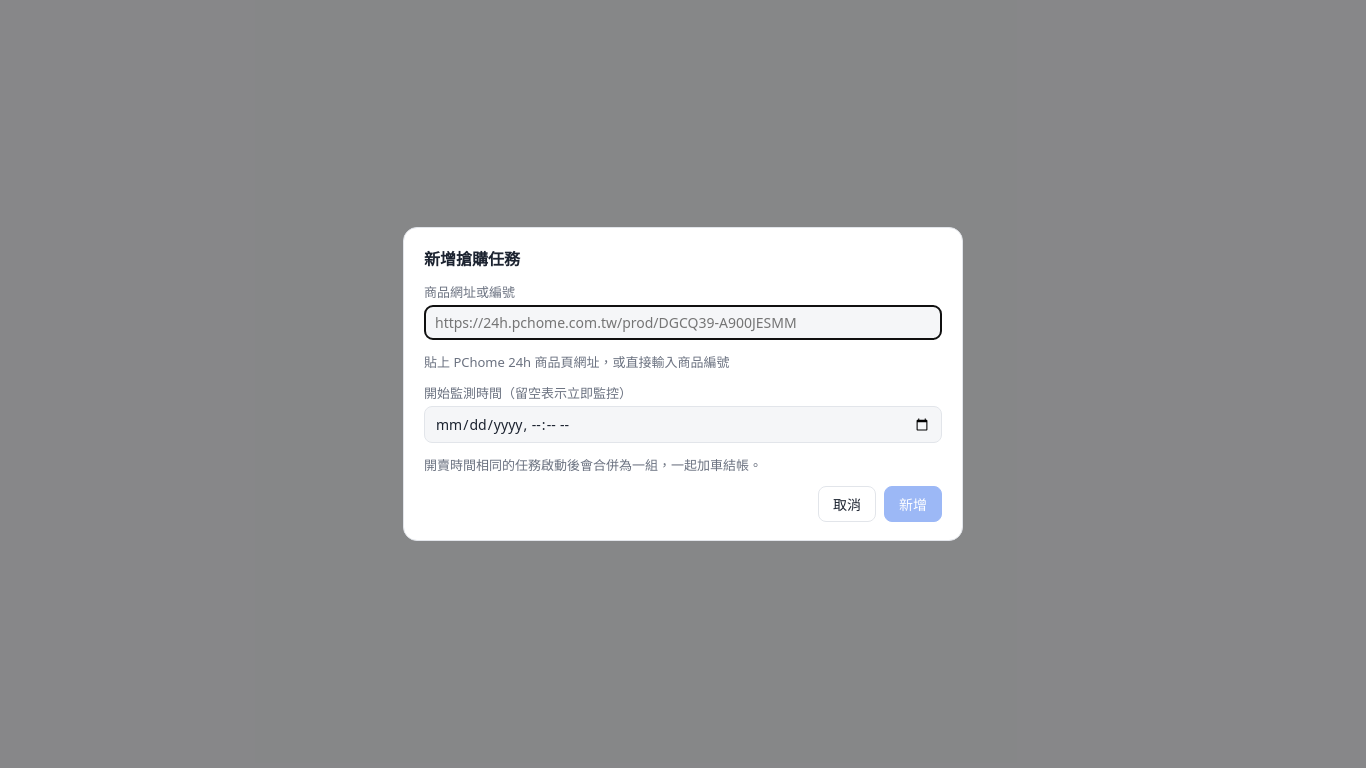
Scenario: AddProductDialog › previews the parsed product id from a bare id
Type "dgcq39-a900jesmm" into the field labelled "商品網址或編號".
click(683, 322); type("dgcq39-a900jesmm")  # box [424, 305, 942, 340]
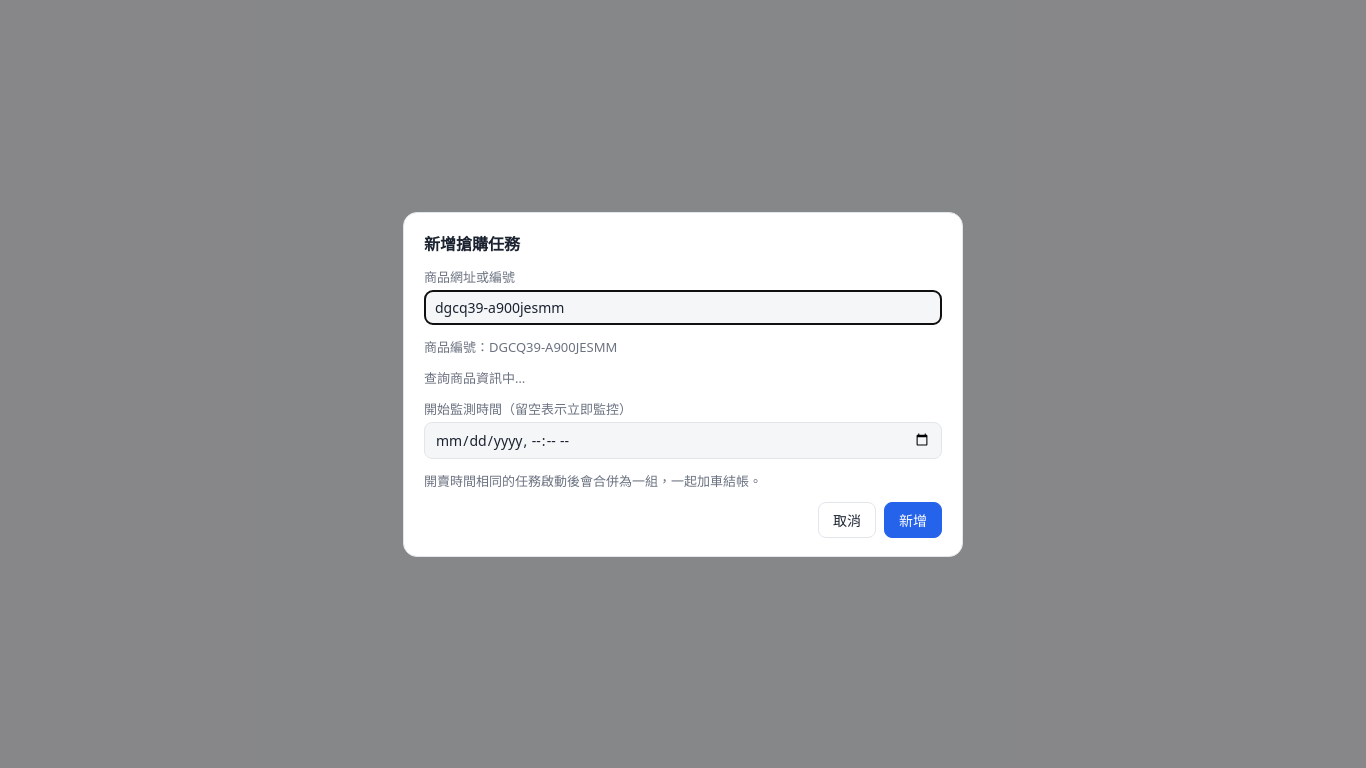
Expected: the text "商品編號：DGCQ39-A900JESMM" is shown, [424, 338, 617, 356]
Expected: the button "新增" is enabled, [884, 502, 942, 538]
